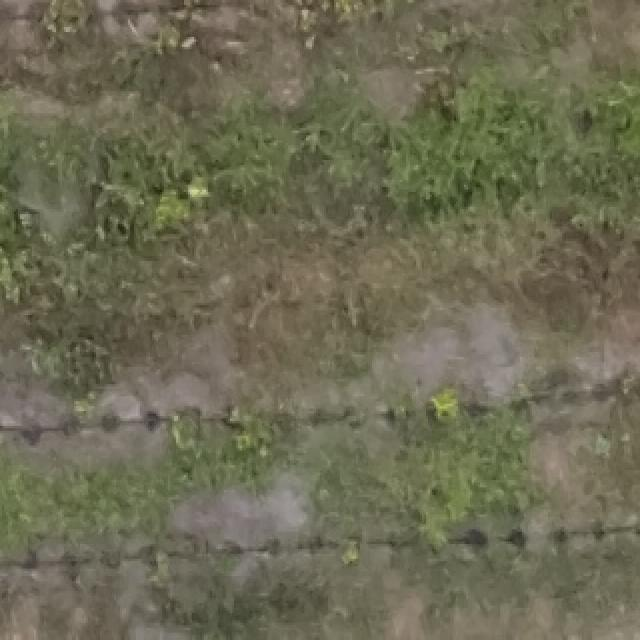strawberry-plant: (262, 0, 440, 52), (134, 0, 224, 74), (10, 0, 102, 57), (216, 400, 275, 462), (508, 0, 590, 42), (160, 409, 208, 472), (420, 378, 472, 432), (141, 545, 183, 595), (333, 525, 372, 578), (0, 424, 16, 466)
